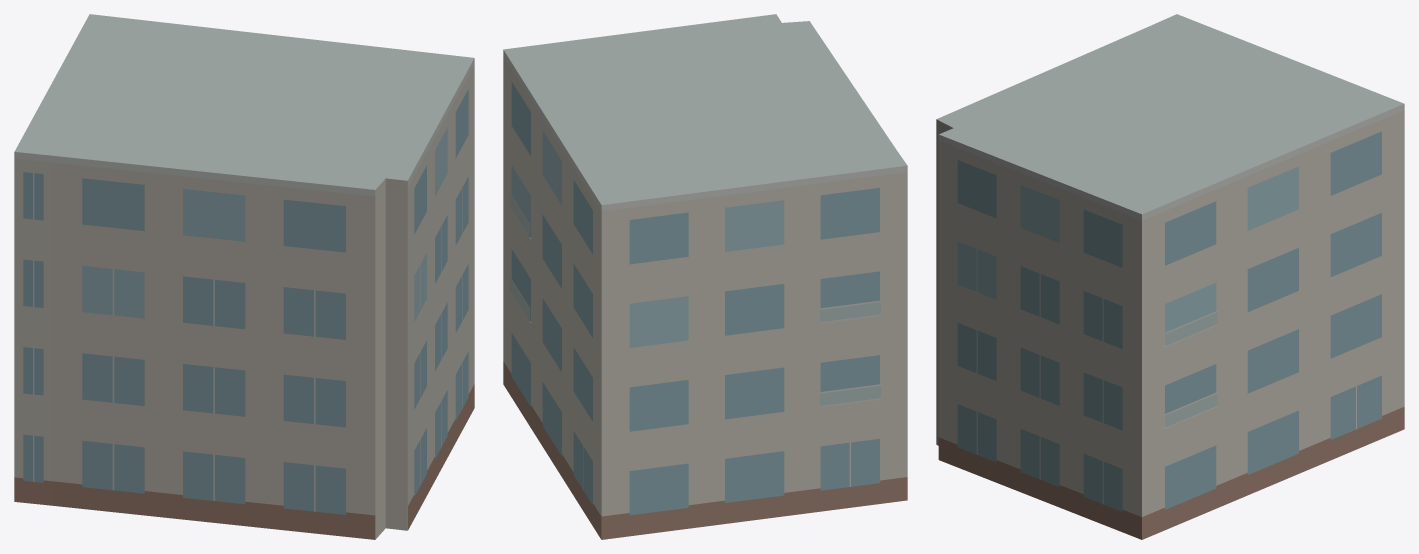
File: survey-upis-32818083.glb
3 views of the same model, side by side, from view 1: azimuth 30°, elevation 25°; view 2: azimuth 150°, elevation 25°; view 3: azimuth 270°, elevation 25° (orthographic). The views are drawn at different scales.
Parts seen in each view (by area): view 1: survey-upis-32818083.tmp; view 2: survey-upis-32818083.tmp; view 3: survey-upis-32818083.tmp.
Part boxes in pixels (x1,y1,x2,y2): survey-upis-32818083.tmp: (14,14,474,539); survey-upis-32818083.tmp: (503,14,907,539); survey-upis-32818083.tmp: (936,14,1404,539).
Bounding box in the file's own units: 16.84 × 12.75 × 16.63.
